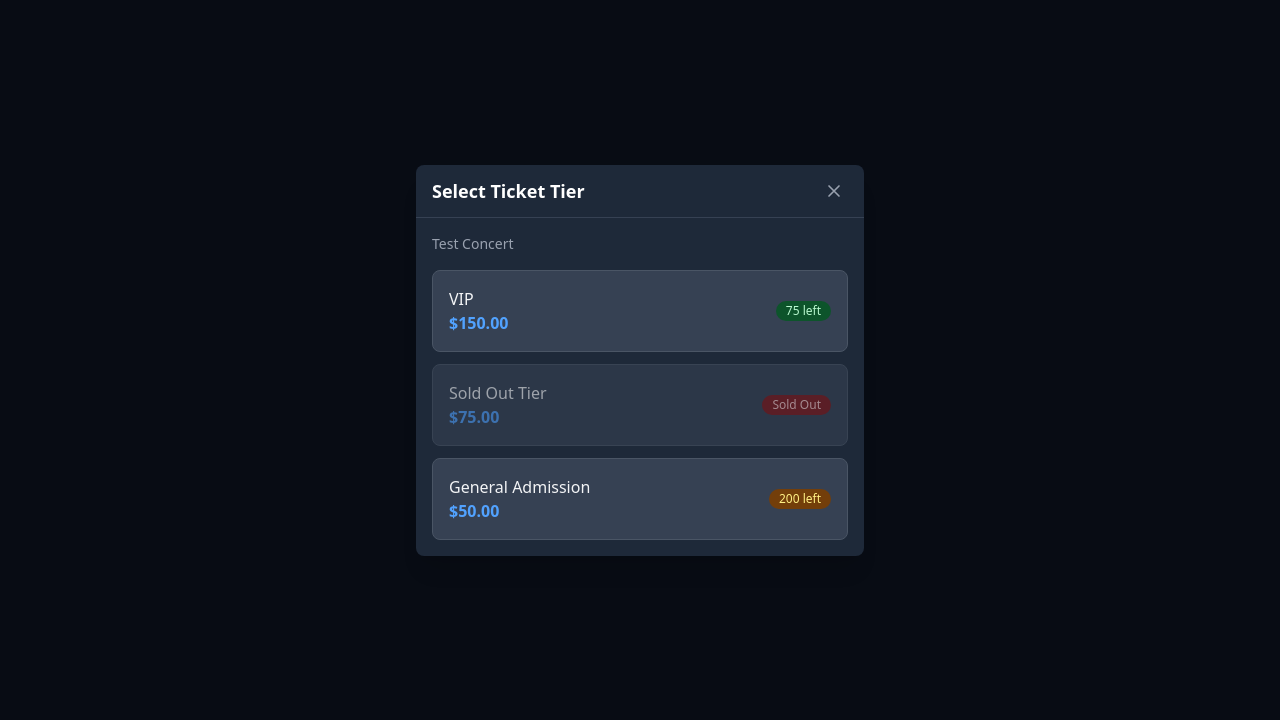
BookingModal › Booking Form Step › navigates to booking form when tier is selected
Click the button "VIP $150.00 75 left" at (479, 322), box [432, 270, 848, 352]
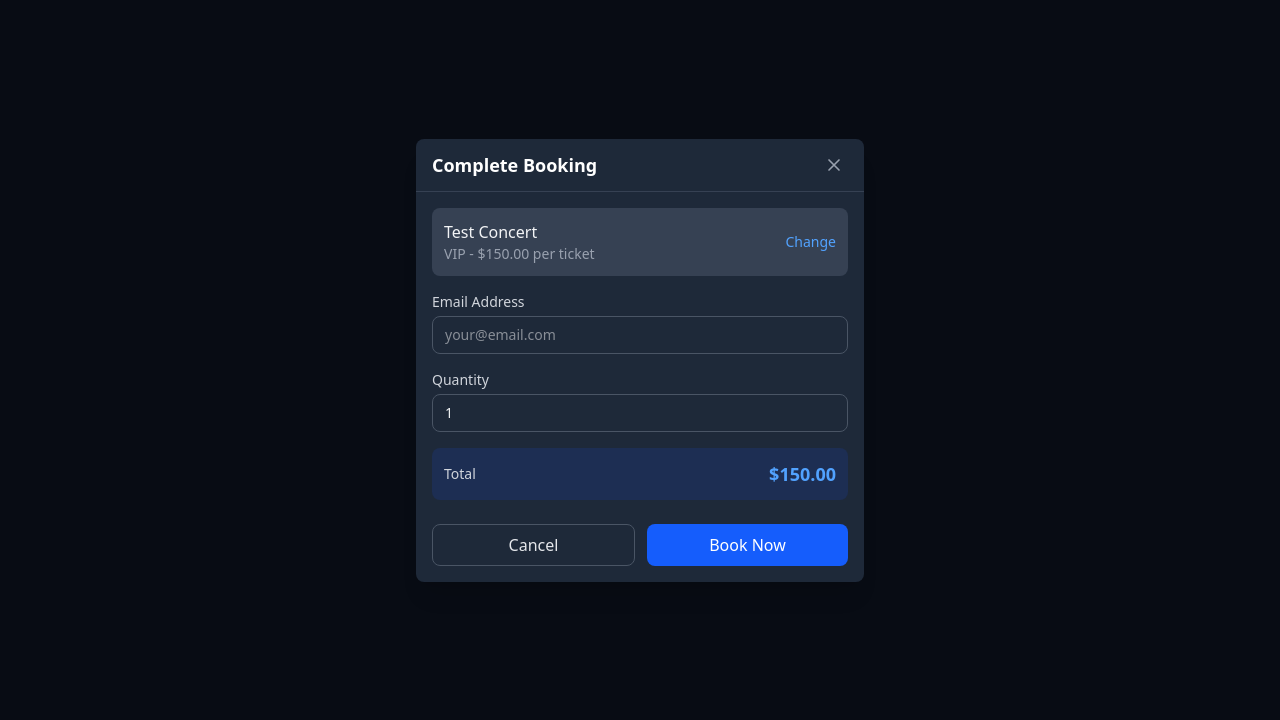
Expected: the heading "Complete Booking" is shown, [432, 150, 597, 178]
